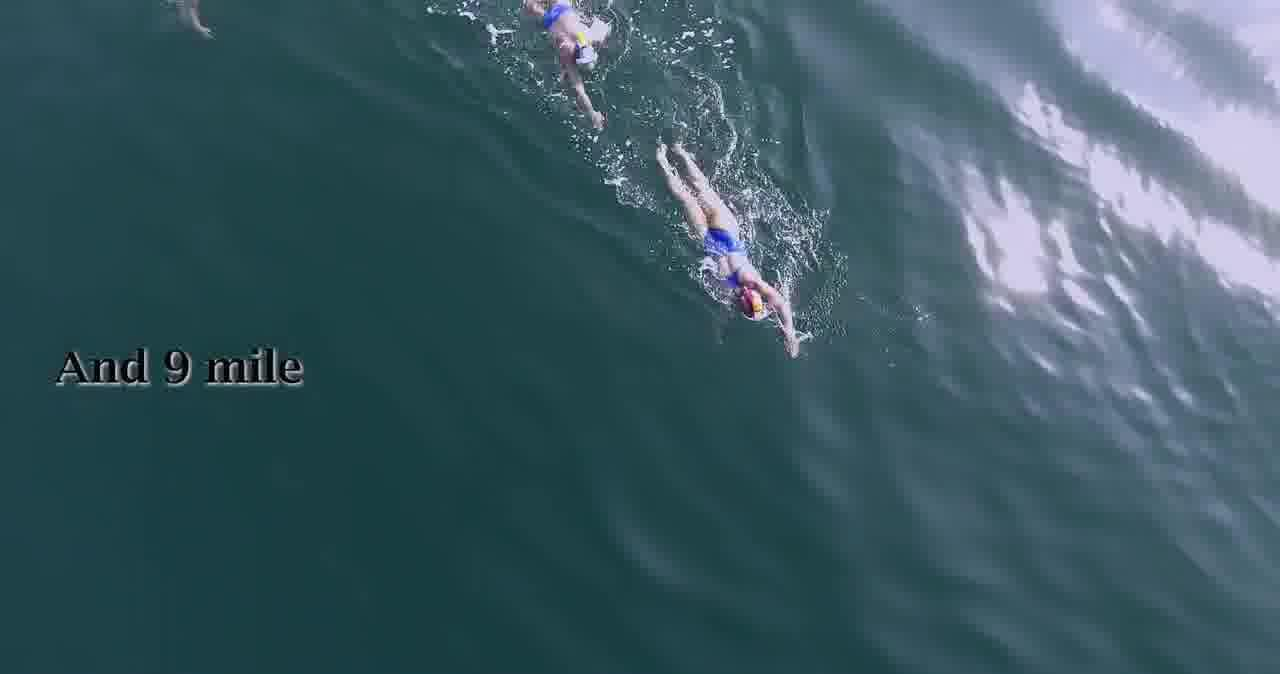swimmer: (646, 138, 808, 366), (520, 1, 612, 141)
